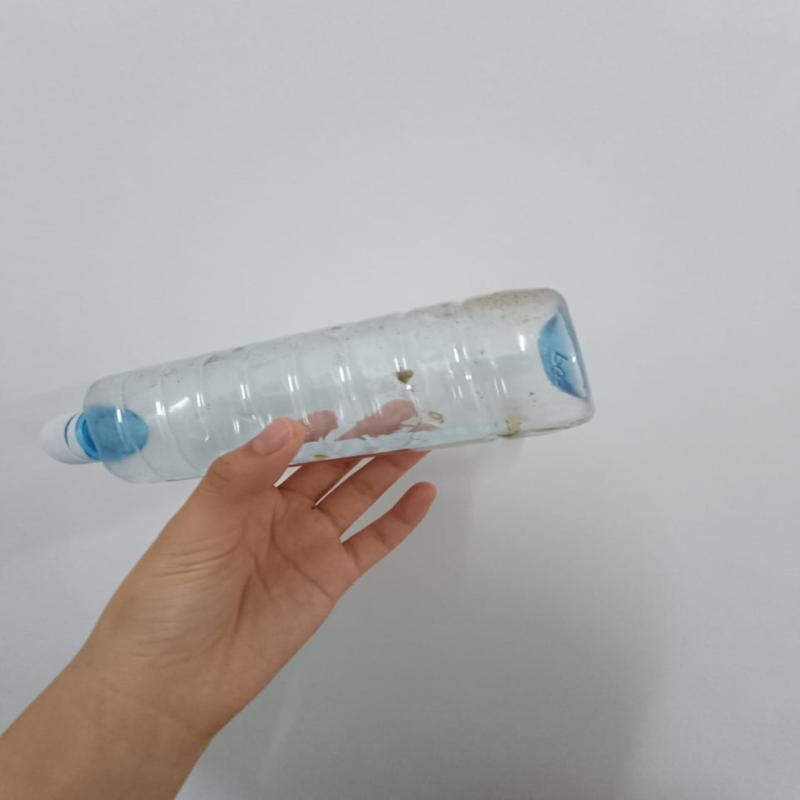botella: (45, 290, 601, 486)
